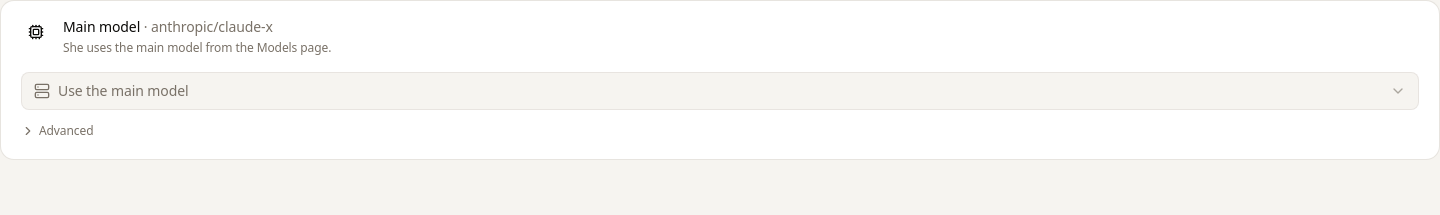
QueenModelSection › shows the main model until she has her own, and takes a saved provider
Check: the text "· anthropic/claude-x" is shown, box [144,17,273,36]
Click the button "Advanced" at (57,131), box [21,122,93,139]
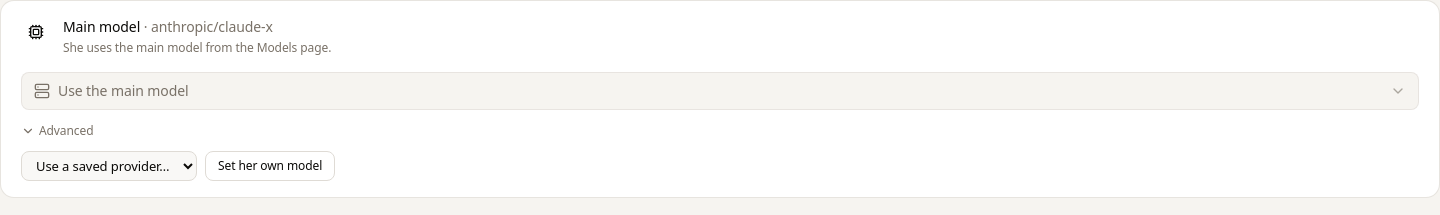
Select "Archive" in the dropdown named "Use a saved provider" at (109,166), box [21,151,197,181]
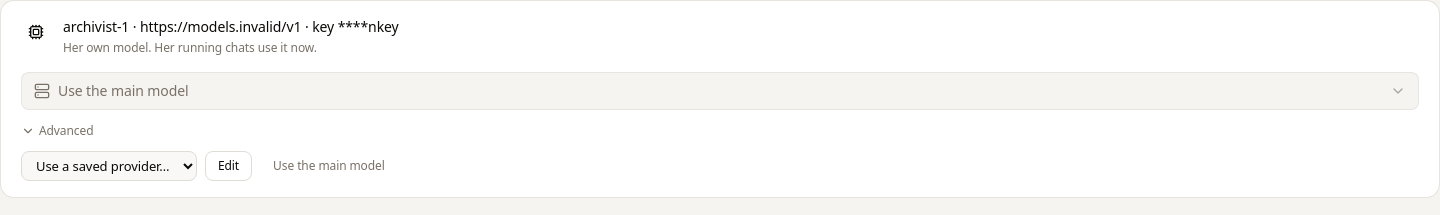
Check: the text "archivist-1 · https://models.invalid/v1 · key ****nkey" is shown, box [63,17,399,36]
